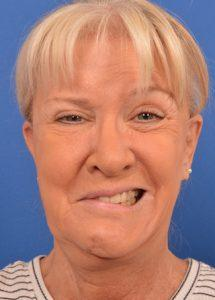strokeEyeMid: (43, 85, 182, 138)
strokeMouthSevere: (67, 178, 150, 214)
